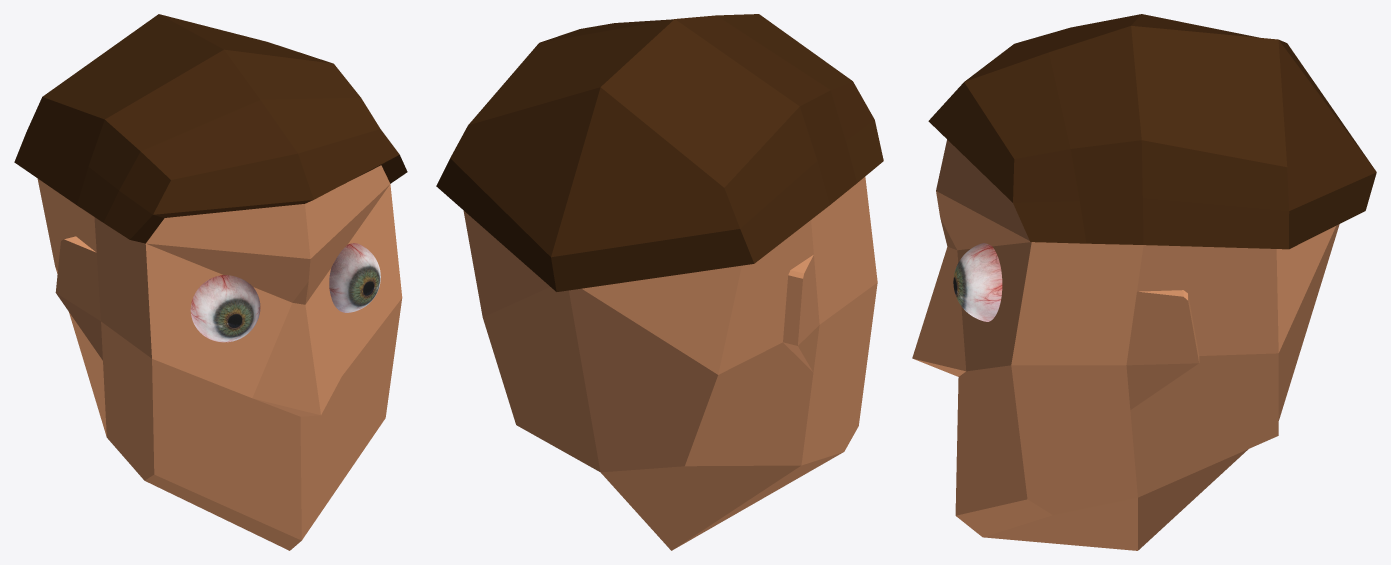
Rendered from creepyhead4.gltf.
3 renders of one model, left to right at view 1: azimuth 30°, elevation 25°; view 2: azimuth 150°, elevation 25°; view 3: azimuth 270°, elevation 25°, orthographic. The views are drawn at different scales.
Parts seen in each view (by area): view 1: Cube, Cube.002, Sphere; view 2: Cube.002, Cube; view 3: Cube, Cube.002, Sphere.
Part boxes in pixels (<box>): Cube: <box>37,165,402,550</box>; Cube.002: <box>14,14,407,243</box>; Sphere: <box>190,243,380,342</box>; Cube.002: <box>436,14,883,291</box>; Cube: <box>463,177,877,550</box>; Cube: <box>912,139,1339,550</box>; Cube.002: <box>928,14,1376,249</box>; Sphere: <box>953,243,1002,321</box>.
Bounding box in the file's own units: 4.34 × 6.8 × 5.45.
Materials: 3 (1 with a texture image).
